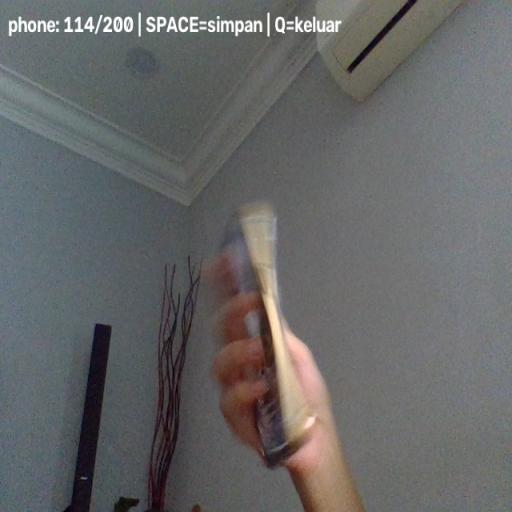Bottle: (220, 202, 318, 468)
